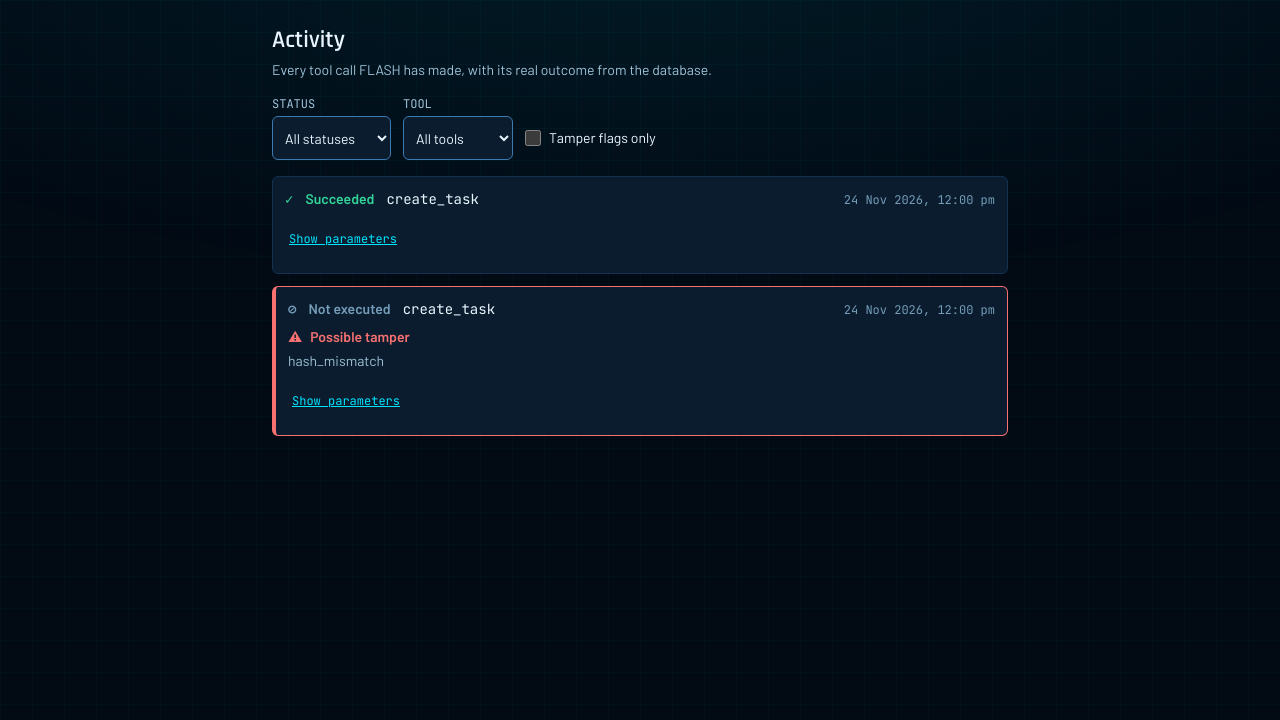
Scenario: activity timeline states and filters › tool filter and tamper-only filter combine
Step 1. Click the checkbox labelled "Tamper flags only" → [533, 138], box [525,130,541,146]
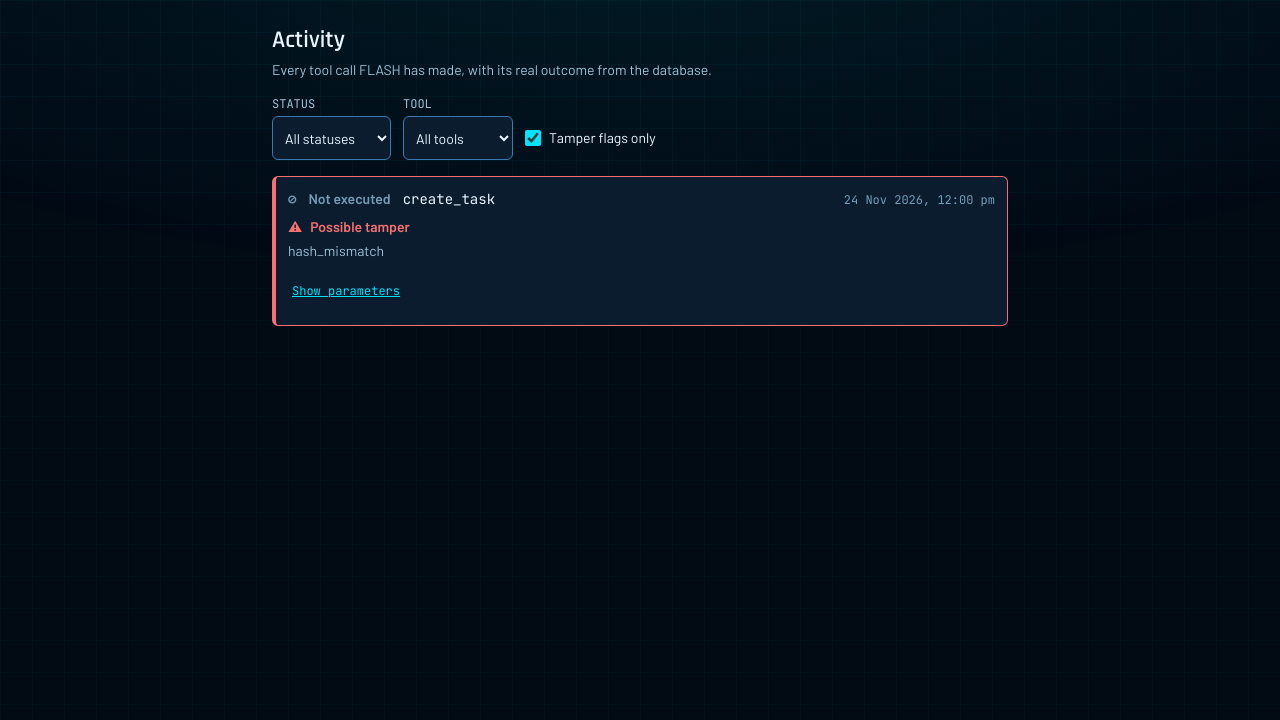
Expected: the text "Possible tamper" is shown, [310,218,410,235]
Step 2. Select "get_tasks" in the dropdown labelled "Tool" → [458, 138], box [403,116,513,160]
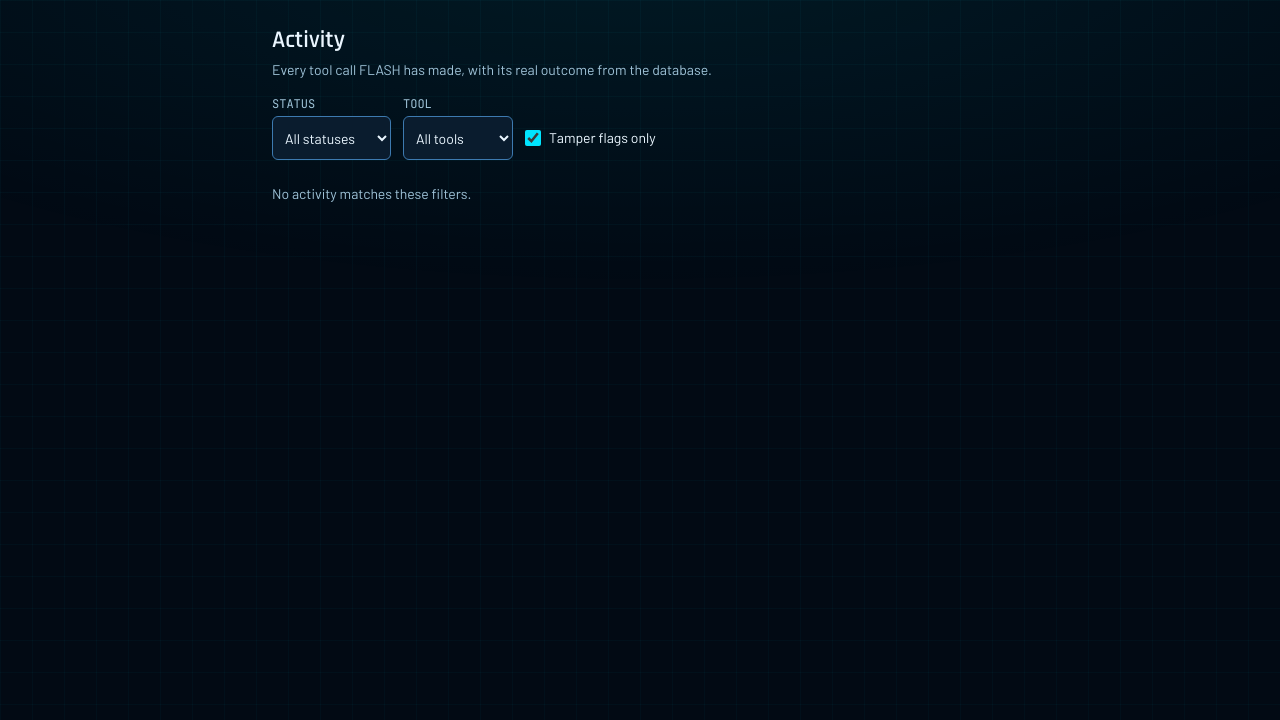
Expected: the text "No activity matches these filters." is shown, [272,185,471,202]
